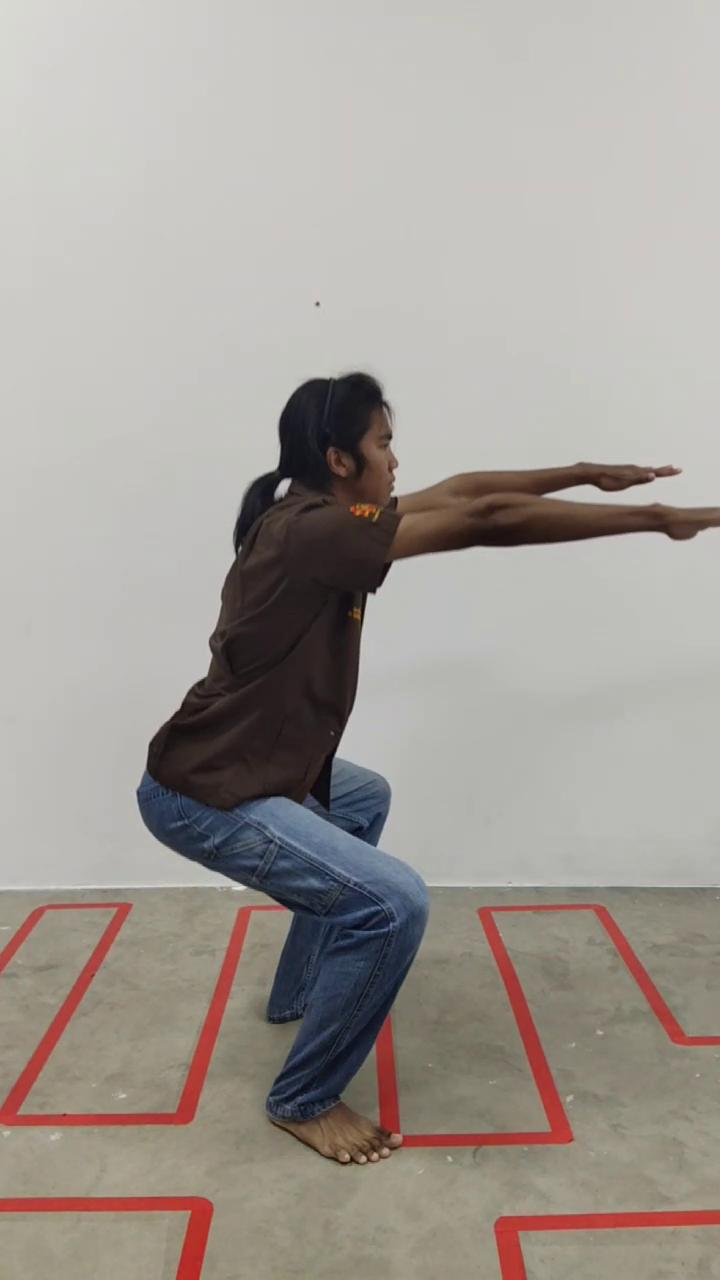squat down: (139, 370, 699, 1171)
